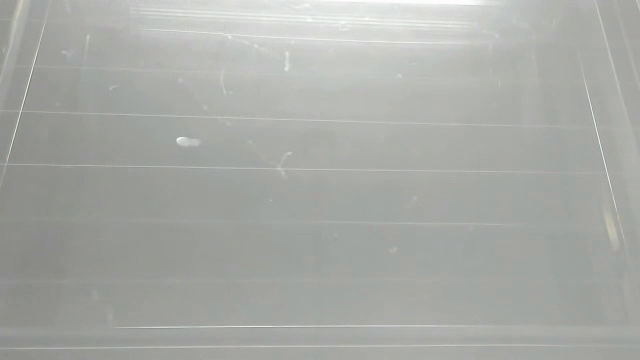alpha: (171, 131, 206, 154)
